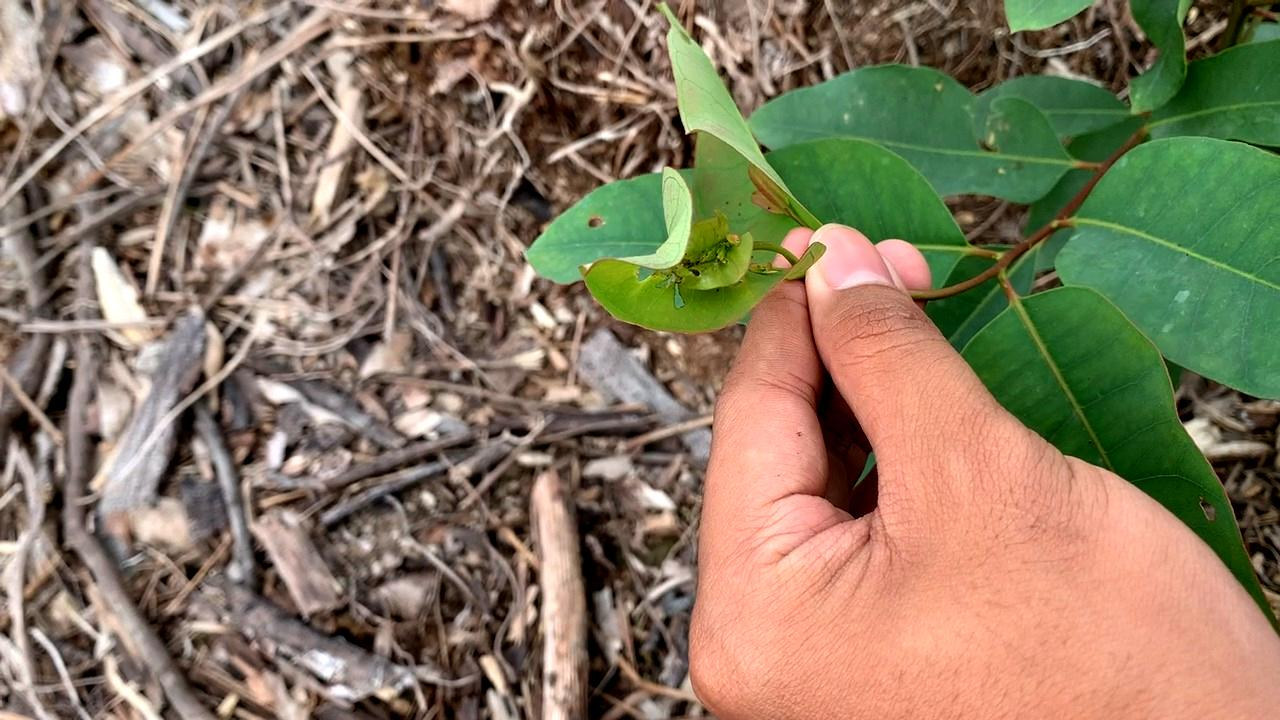Leaf Roller - Leaf: (579, 170, 828, 349)
